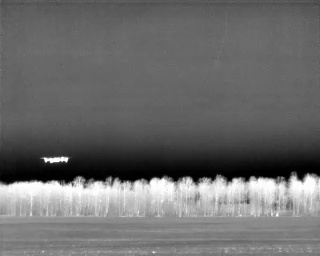DRONE: (37, 151, 74, 168)
